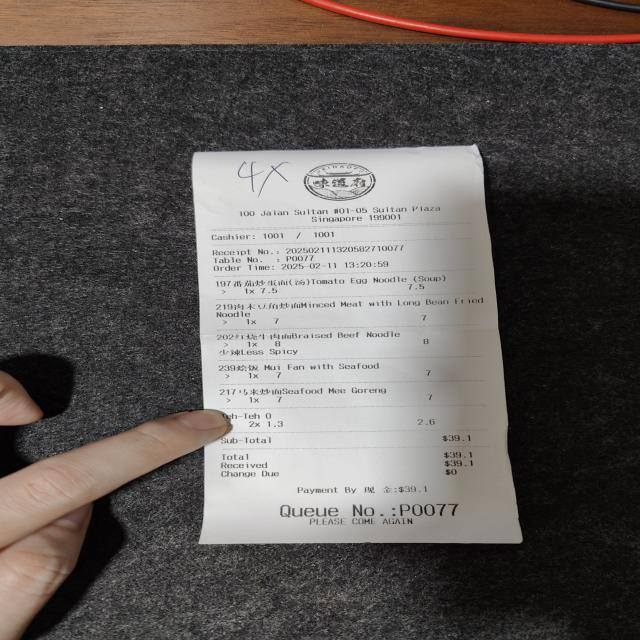bill_region: (200, 276, 506, 483)
